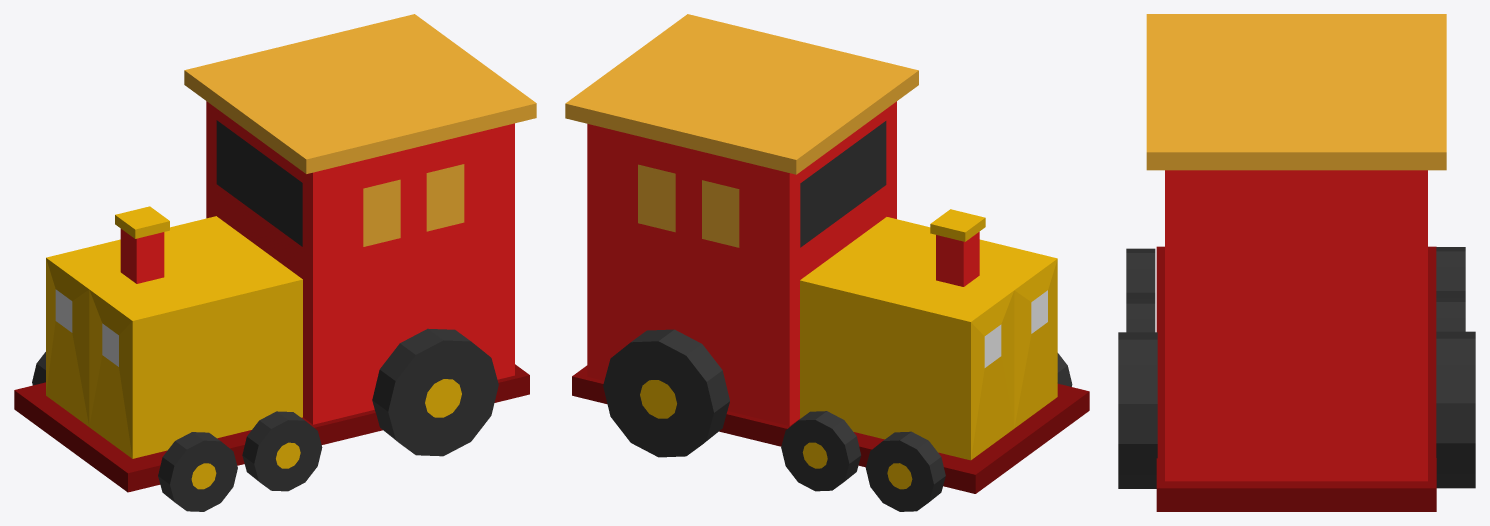
The model's file is toy-car.fbx.
3 views of the same model, side by side, from view 1: azimuth 30°, elevation 25°; view 2: azimuth 150°, elevation 25°; view 3: azimuth 270°, elevation 25° (orthographic). The views are drawn at different scales.
Visible parts, largest first — view 1: Cube.001, Cube, Cylinder.002, Cylinder, Cylinder.001, Cube.002; view 2: Cube.001, Cube, Cylinder.005, Cylinder.004, Cylinder.003, Cube.002; view 3: Cube.001, Cube, Cylinder.005, Cylinder.002, Cylinder.003, Cylinder, Cylinder.004, Cylinder.001.
Part boxes in pixels (box(x1,y1,x2,y2)): Cube.001: box(184, 14, 536, 424); Cube: box(14, 216, 529, 492); Cylinder.002: box(372, 328, 498, 456); Cylinder: box(158, 432, 237, 511); Cylinder.001: box(242, 411, 322, 491); Cube.002: box(115, 206, 169, 283); Cube.001: box(565, 14, 918, 425); Cube: box(572, 217, 1089, 493); Cylinder.005: box(603, 329, 729, 457); Cylinder.004: box(781, 411, 861, 491); Cylinder.003: box(865, 431, 945, 511); Cube.002: box(930, 209, 985, 286); Cube.001: box(1146, 14, 1446, 481); Cube: box(1156, 246, 1436, 511); Cylinder.005: box(1436, 331, 1475, 488); Cylinder.002: box(1118, 332, 1157, 488); Cylinder.003: box(1436, 247, 1465, 297); Cylinder: box(1126, 248, 1155, 298); Cylinder.004: box(1436, 297, 1465, 331); Cylinder.001: box(1126, 299, 1155, 332).
Size of the model in its own units: 497 by 375 by 309.
